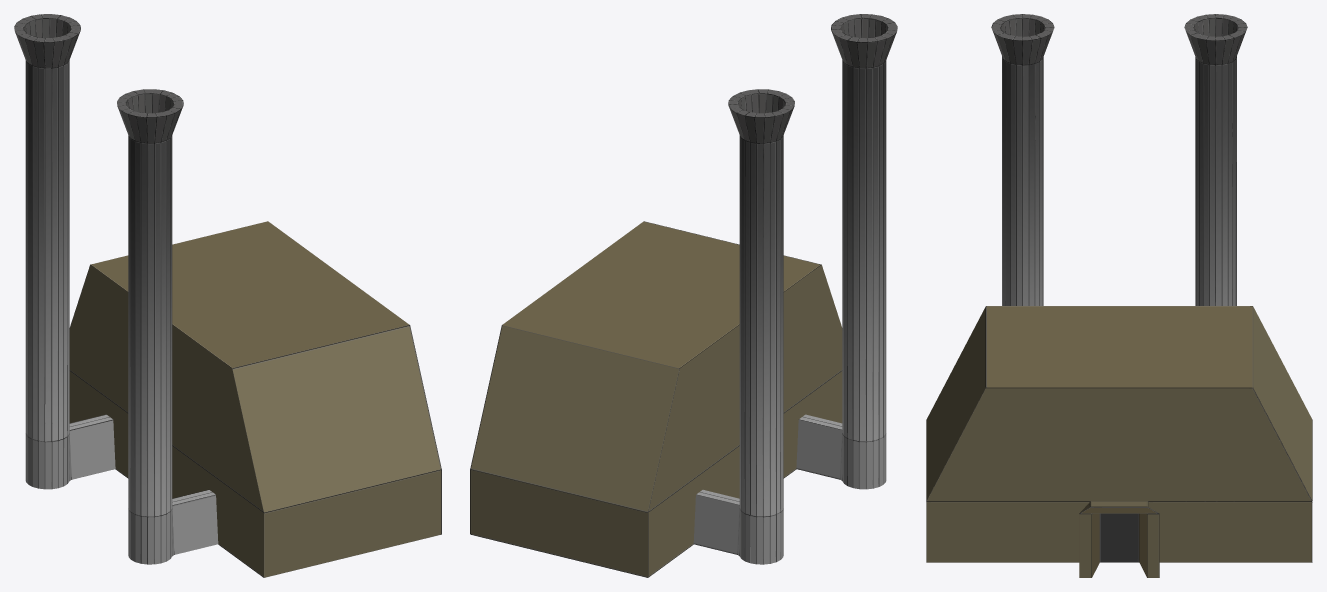
Rendered from ExportedBlenderFBXFile.fbx.
3 renders of one model, left to right at view 1: azimuth 30°, elevation 25°; view 2: azimuth 150°, elevation 25°; view 3: azimuth 270°, elevation 25°, orthographic. The views are drawn at different scales.
Visible parts, largest first — view 1: Cube; view 2: Cube; view 3: Cube.
Part boxes in pixels (x1=…): Cube: x1=14, y1=14, x2=441, y2=577; Cube: x1=470, y1=14, x2=897, y2=577; Cube: x1=926, y1=14, x2=1312, y2=577.
Size of the model in its own units: 3.4 by 4.86 by 4.
